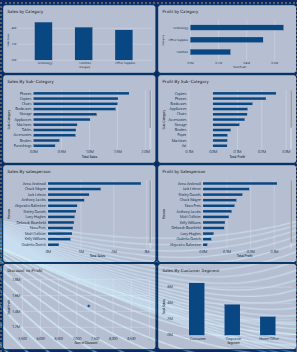

What the dashboard file says about the page in this screenshot:
{"tool":"powerbi","page":{"name":"Sales & Profit Analysis","canvas":[1180,1400],"ordinal":1},"visuals":[{"type":"clusteredBarChart","title":"Profit by Category","fields":{"Category":["Orders.Category"],"Y":["Orders.Total Profit"]},"box":[618.6,0,561.4,280],"z":1},{"type":"clusteredBarChart","title":"Sales By salesperson","fields":{"Category":["People.Person"],"Y":["Orders.Total Sales"]},"box":[0,640,618.6,397.1],"z":3},{"type":"clusteredBarChart","title":"Profit by Salesperson","fields":{"Y":["Orders.Total Profit"],"Category":["People.Person"]},"box":[618.6,640,561.4,397.1],"z":4},{"type":"scatterChart","title":"Discount vs Profit","fields":{"X":["Sum(Orders.Discount)"],"Y":["Orders.Total Profit"]},"box":[0,1037.1,618.6,350],"z":5},{"type":"clusteredColumnChart","title":"Sales By Customer Segment","fields":{"Category":["Orders.Segment"],"Y":["Orders.Total Sales"]},"box":[618.6,1037.1,561.4,350],"z":6},{"type":"clusteredBarChart","title":"Profit By Sub-Category","fields":{"Category":["Orders.Sub-Category"],"Y":["Orders.Total Profit"]},"box":[618.6,280,561.4,360],"z":8},{"type":"clusteredBarChart","title":"Sales By Sub-Category","fields":{"Category":["Orders.Sub-Category"],"Y":["Orders.Total Sales"]},"box":[0,280,618.6,360],"z":9},{"type":"clusteredColumnChart","title":"Sales by Category","fields":{"Category":["Orders.Category"],"Y":["Orders.Total Sales"]},"box":[0,0,618.6,280],"z":10}]}

Visuals, with their boxes in screenshot pixels (x1, y1, x2, y2), scaled from the page's 1180x1400 canvas onto the 297x352 screenshot:
"Profit by Category" clusteredBarChart: bbox(156, 0, 296, 70)
"Sales By salesperson" clusteredBarChart: bbox(0, 161, 156, 261)
"Profit by Salesperson" clusteredBarChart: bbox(156, 161, 296, 261)
"Discount vs Profit" scatterChart: bbox(0, 261, 156, 349)
"Sales By Customer Segment" clusteredColumnChart: bbox(156, 261, 296, 349)
"Profit By Sub-Category" clusteredBarChart: bbox(156, 70, 296, 161)
"Sales By Sub-Category" clusteredBarChart: bbox(0, 70, 156, 161)
"Sales by Category" clusteredColumnChart: bbox(0, 0, 156, 70)
